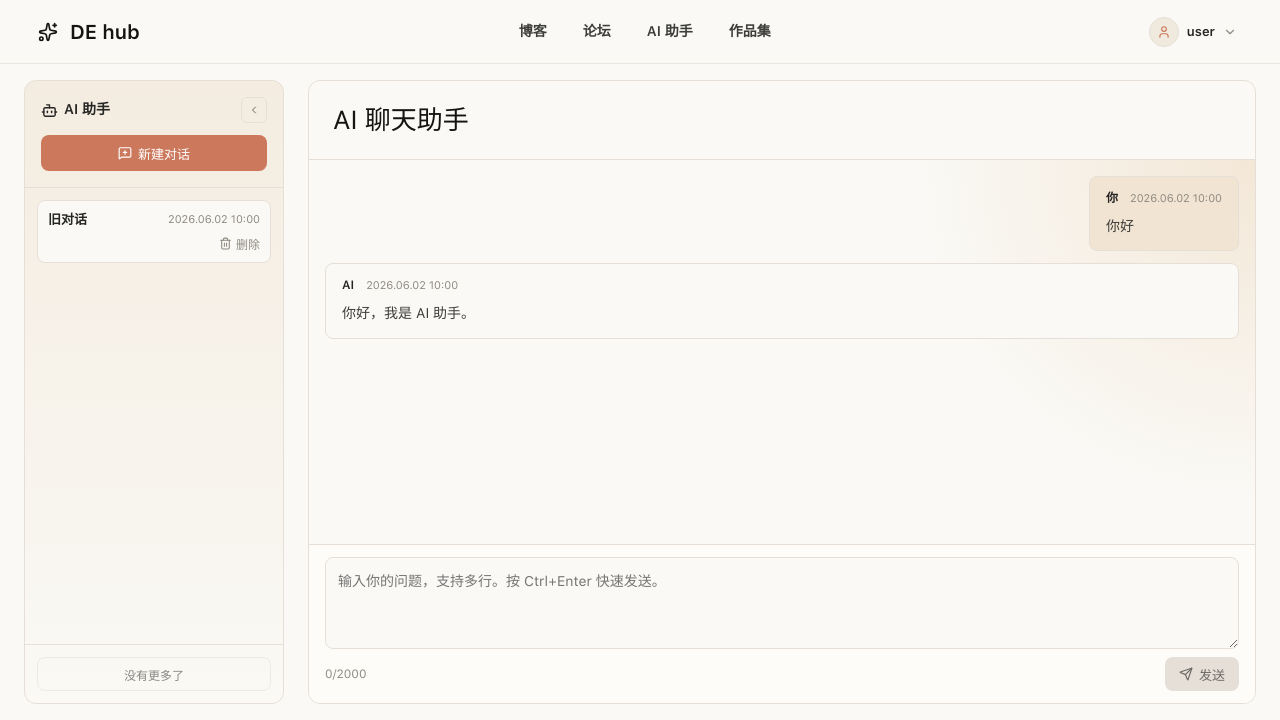
Test: AIChatPage OpenAPI 入口可见性 › 发送后消息列表短暂滞后时仍显示 POST 返回的 AI 回复
Expected: the text "你好，我是 AI 助手。" is shown, [342, 306, 475, 322]
Type "帮我联网搜索 Python 最新信息" into the text box with test id "ai-chat-input". click: (782, 603)
box: [325, 557, 1239, 649]
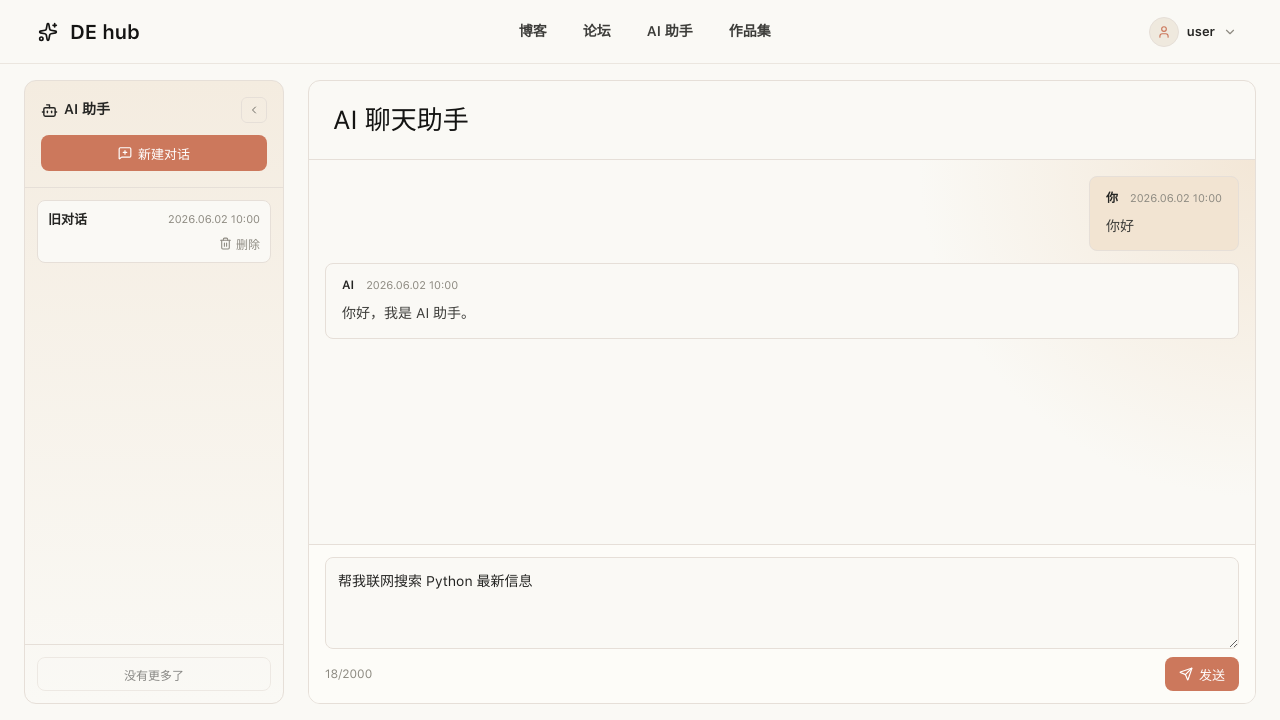
Click the button with test id "ai-chat-send". click: (1202, 674)
box: [1165, 657, 1239, 691]
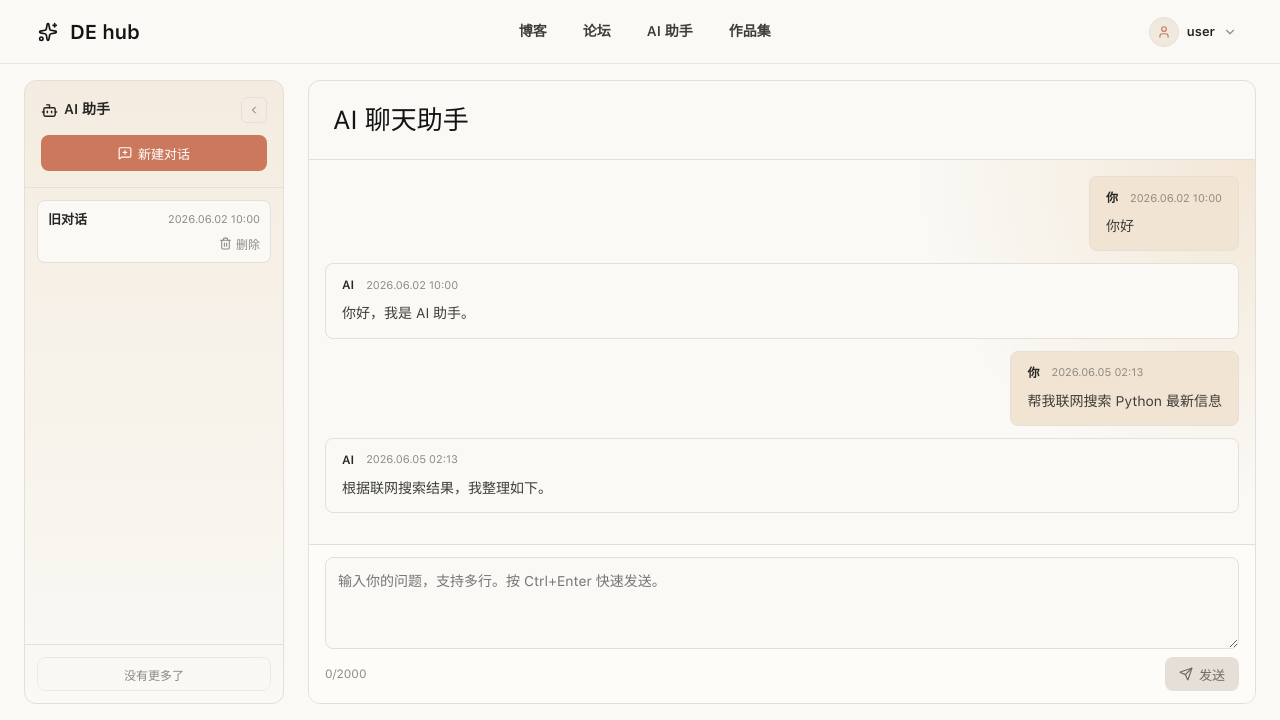
Now the text "根据联网搜索结果，我整理如下。" is shown, box [342, 480, 552, 496]
